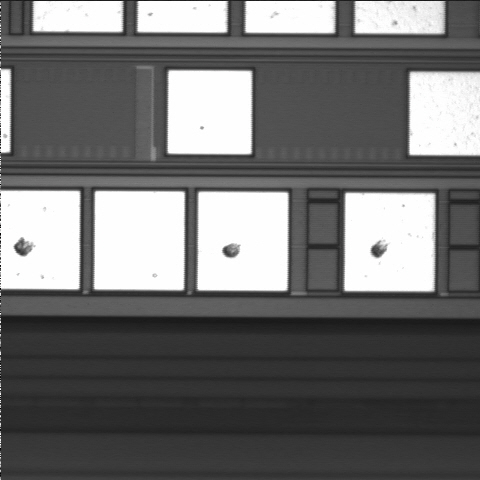pad: (94, 191, 184, 290), (198, 192, 288, 291), (345, 193, 435, 291), (168, 71, 252, 154)
